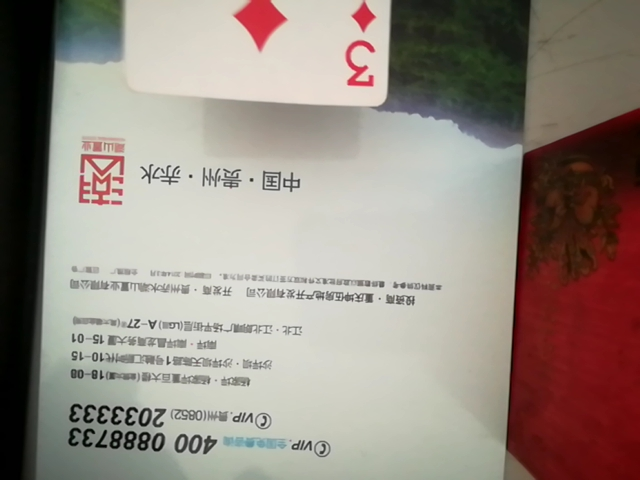fk 3: (125, 1, 427, 111)
